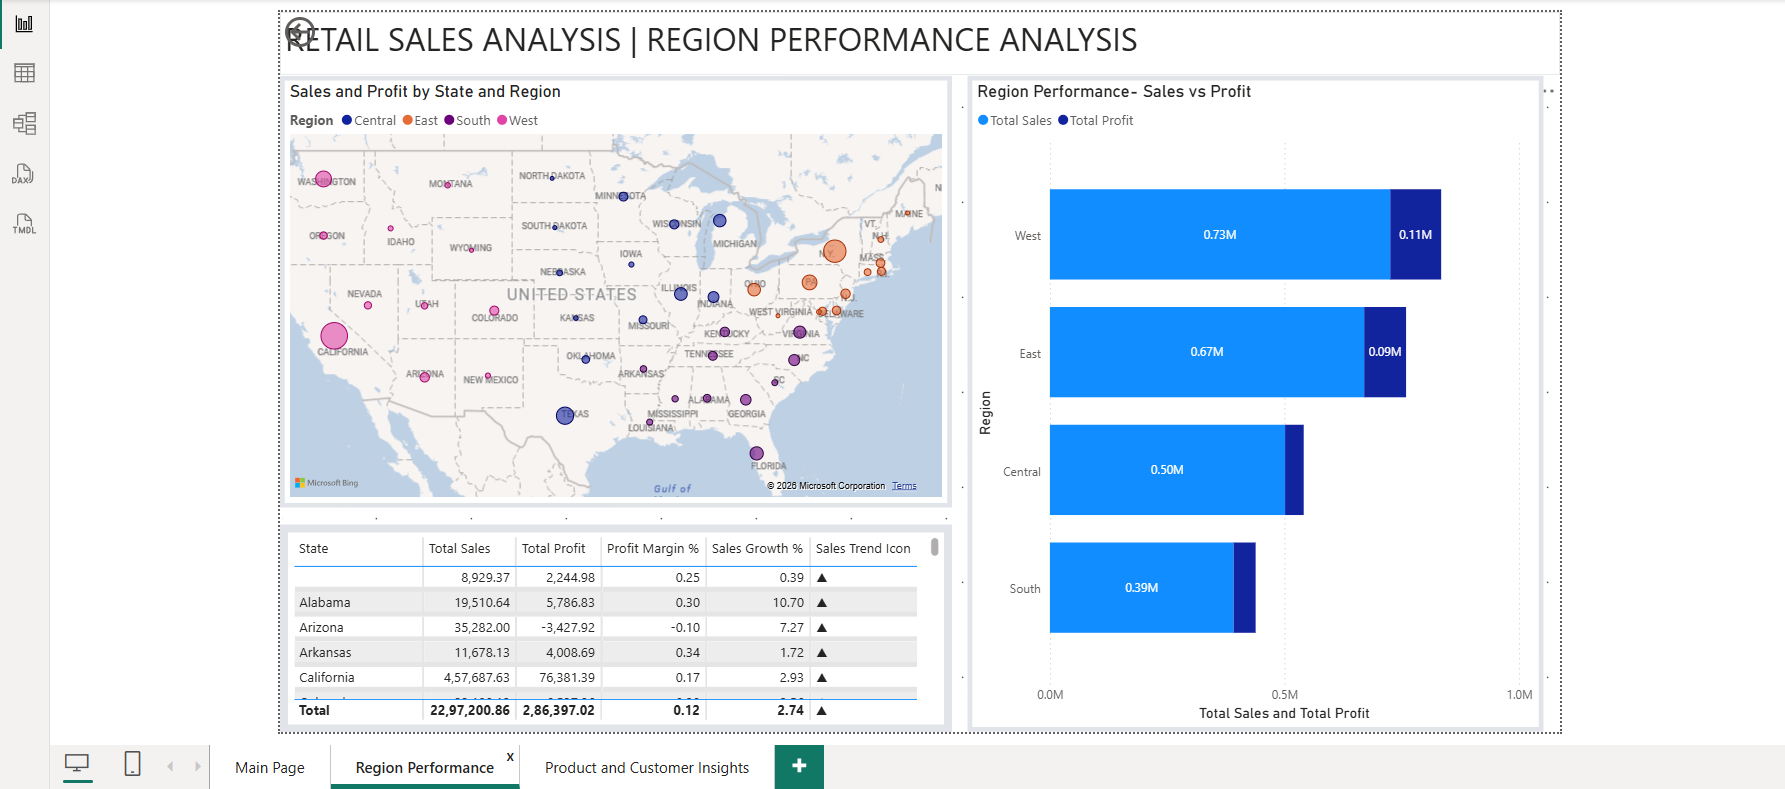

Layout of this report page (visuals, bound fields, positions):
{"tool":"powerbi","page":{"name":"Region Performance","canvas":[1280,720],"ordinal":1},"visuals":[{"type":"textbox","box":[0,0,1280,64],"z":0},{"type":"map","title":"Sales and Profit by State and Region","fields":{"Category":["Dim_Region_Final.State"],"Size":["Dim_Customer_Final.Total Sales"],"Series":["Dim_Region_Final.Region"]},"box":[0,64,672,432],"z":1},{"type":"actionButton","box":[0,0,100,40],"z":2},{"type":"barChart","title":"Region Performance- Sales vs Profit","fields":{"Category":["Dim_Region_Final.Region"],"Y":["Dim_Customer_Final.Total Sales","Dim_Customer_Final.Total Profit"]},"box":[688,64,576,656],"z":3},{"type":"tableEx","fields":{"Values":["Dim_Region_Final.State","Dim_Customer_Final.Total Sales","Dim_Customer_Final.Total Profit","Dim_Customer_Final.Profit Margin %","Dim_Customer_Final.Sales Growth %","Dim_Customer_Final.Sales Trend Icon"]},"box":[0,512,672,208],"z":4}]}

Visuals, with their boxes on the page's 1280x720 design canvas (x1, y1, x2, y2). These are canvas units, not pixel positions in the 1785x789 screenshot, which may show the page scaled, cropped or inside an application window:
textbox: {"left": 0, "top": 0, "right": 1280, "bottom": 64}
"Sales and Profit by State and Region" map: {"left": 0, "top": 64, "right": 672, "bottom": 496}
actionButton: {"left": 0, "top": 0, "right": 100, "bottom": 40}
"Region Performance- Sales vs Profit" barChart: {"left": 688, "top": 64, "right": 1264, "bottom": 720}
tableEx - Dim_Region_Final.State x Dim_Customer_Final.Total Sales: {"left": 0, "top": 512, "right": 672, "bottom": 720}
